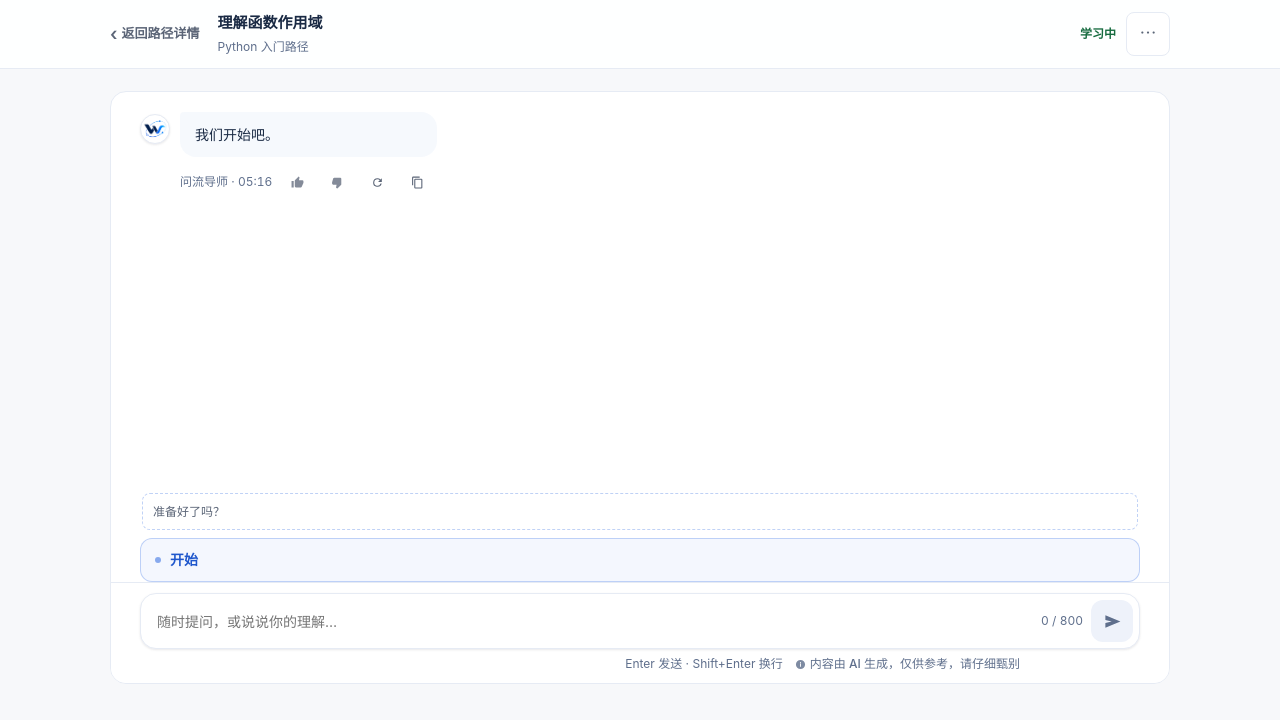
Test: V2LearningPage 挂载回归 › 陈旧 revision 重试：用户气泡只推一次（skipUserPush 修复双渲染）
This screenshot has width=1280, height=720.
Type "第一条" into the text box with placeholder "随时提问，或说说你的理解…" at (595, 621), box [157,604,1033,638]
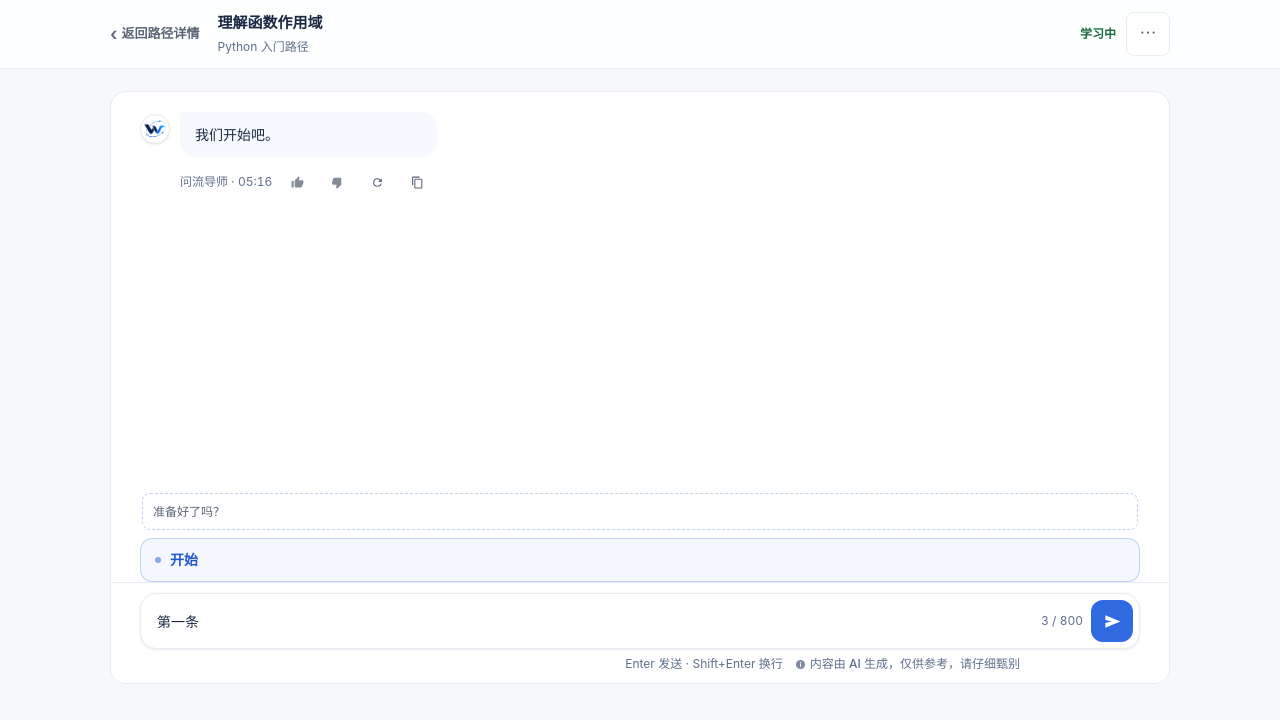
Click the button named "发送" at (1112, 621), box [1091,600,1133,642]
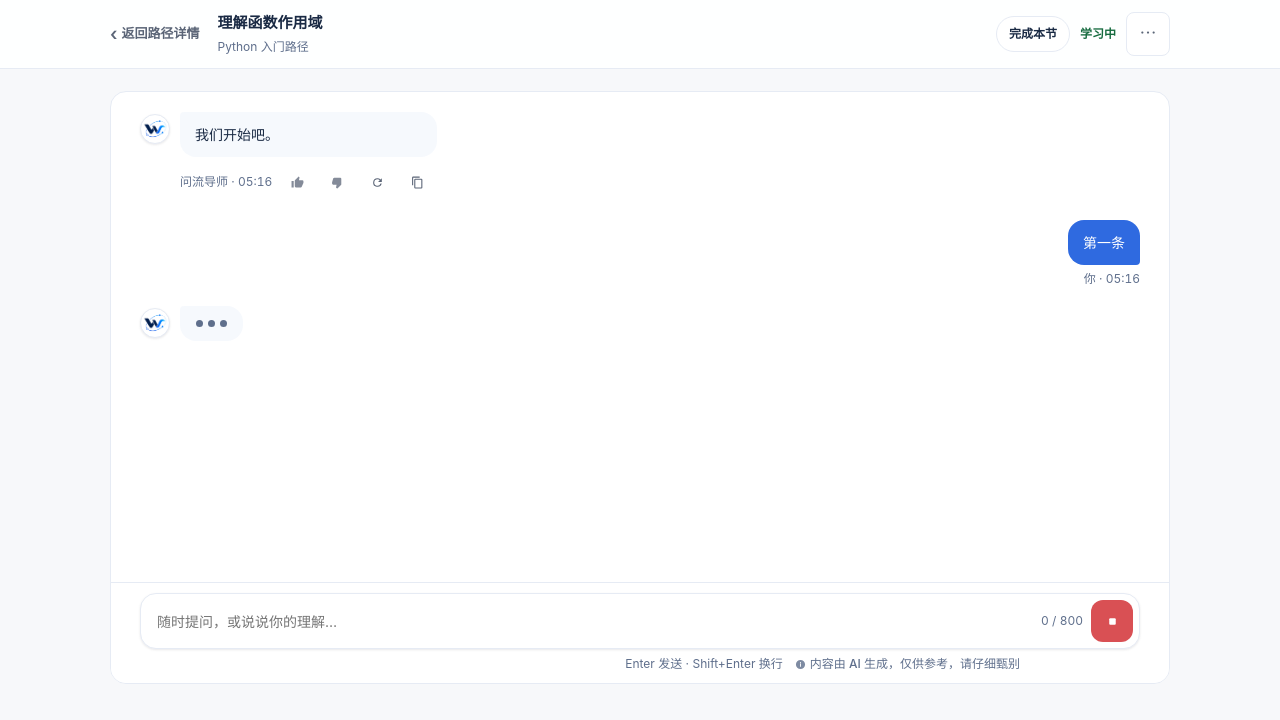
Check: the element with class "msg__bubble" showing "我们开始吧。" is shown, box [180,112,437,157]
Check: the number of elements with class "msg--user" is 1, box [1068,220,1140,286]
Check: the element with class "msg--user" shows "第一条", box [1083,234,1125,251]
